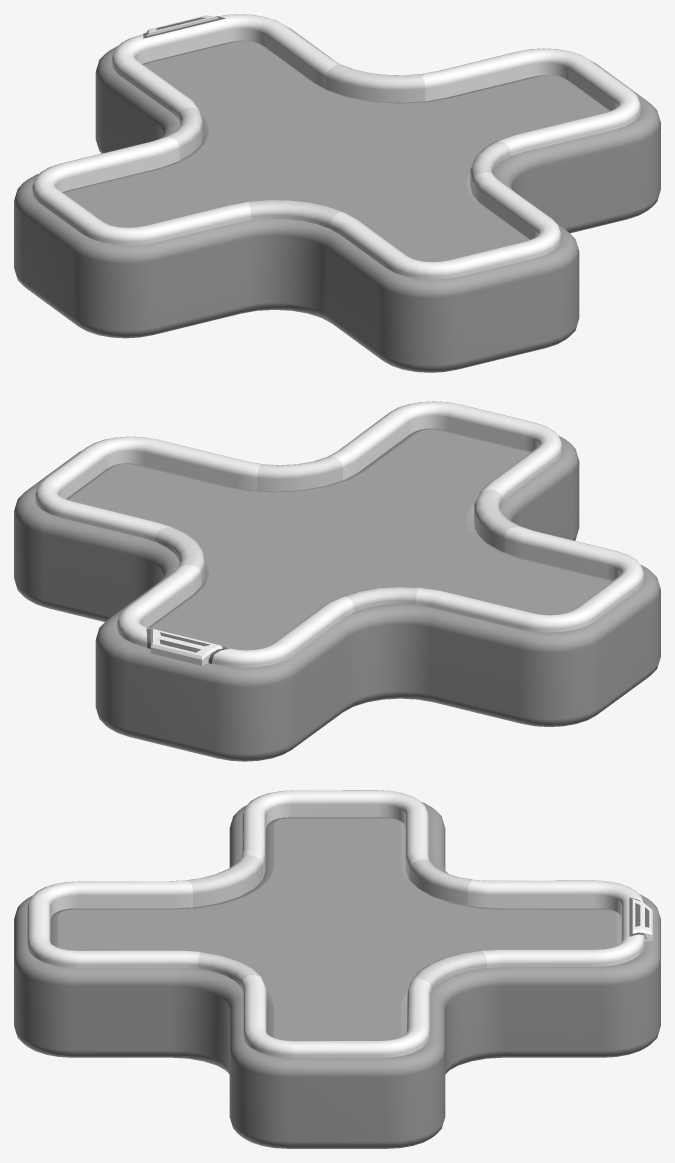
The model's file is Model_Block_Plus_New.fbx.
3 views of the same model, one above another, from view 1: azimuth 30°, elevation 25°; view 2: azimuth 150°, elevation 25°; view 3: azimuth 270°, elevation 25° (orthographic). The views are drawn at different scales.
Parts seen in each view (by area): view 1: Block_Plus_BG, Block_Plus_Water, Block_Plus_Stroke; view 2: Block_Plus_BG, Block_Plus_Water, Block_Plus_Stroke; view 3: Block_Plus_BG, Block_Plus_Water, Block_Plus_Stroke.
Boxes of the visible parts, box(x1,y1,x2,y2) form: Block_Plus_BG: box(14, 26, 660, 372); Block_Plus_Water: box(62, 40, 609, 261); Block_Plus_Stroke: box(32, 14, 641, 279); Block_Plus_BG: box(14, 435, 660, 761); Block_Plus_Water: box(66, 428, 612, 650); Block_Plus_Stroke: box(35, 401, 644, 667); Block_Plus_BG: box(14, 802, 660, 1148); Block_Plus_Water: box(50, 817, 621, 1040); Block_Plus_Stroke: box(27, 790, 652, 1058).
Bounding box in the file's own units: 296 × 50.91 × 296.
Materials: 2 (1 with a texture image).
